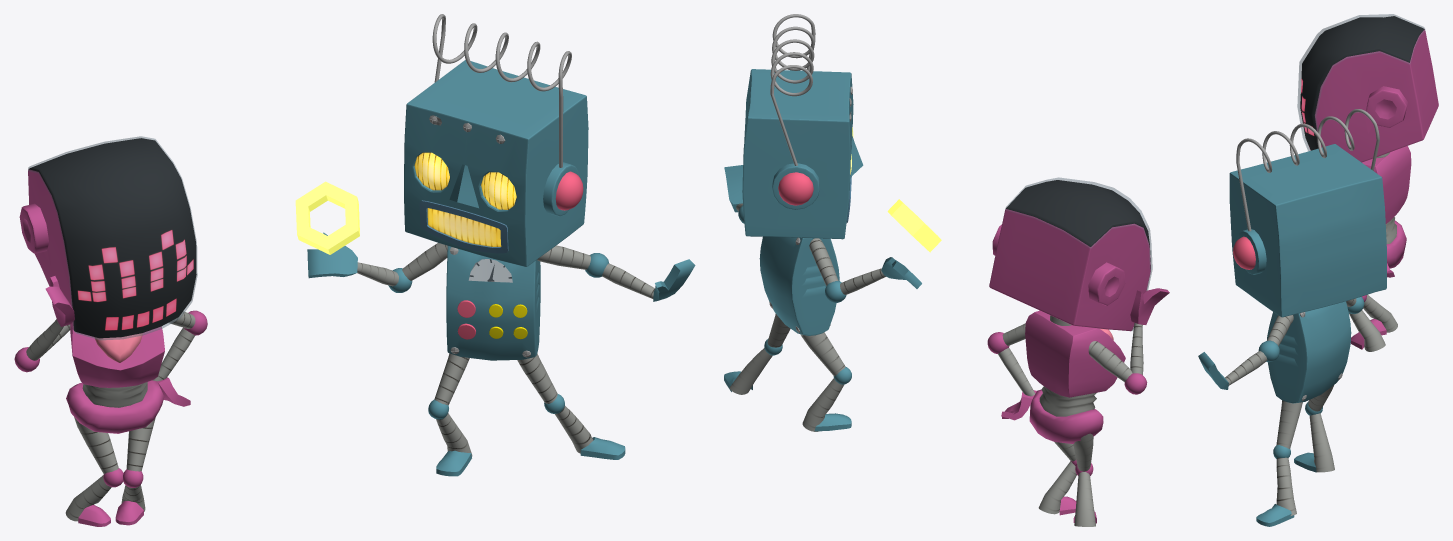
File: robot.glb
3 views of the same model, side by side, from view 1: azimuth 30°, elevation 25°; view 2: azimuth 150°, elevation 25°; view 3: azimuth 270°, elevation 25° (orthographic). The views are drawn at different scales.
Visible parts, largest first — view 1: Object_17, Object_14, Object_3, Object_21, Object_11, Object_15, Object_12, Object_10, Object_13, Object_8, Object_18, Object_19 (+4 smaller); view 2: Object_17, Object_21, Object_14, Object_3, Object_11, Object_10, Object_8, Object_12, Object_4, Object_13, Object_19, Object_20 (+1 smaller); view 3: Object_17, Object_21, Object_14, Object_3, Object_10, Object_8, Object_11, Object_16, Object_19, Object_12.
Part boxes in pixels (x1,y1,x2,y2): Object_17: [307, 60, 695, 476]; Object_14: [28, 136, 512, 340]; Object_3: [29, 138, 196, 338]; Object_21: [19, 169, 190, 526]; Object_11: [40, 243, 590, 473]; Object_15: [414, 152, 516, 246]; Object_12: [26, 262, 654, 381]; Object_10: [65, 406, 593, 521]; Object_13: [295, 181, 359, 254]; Object_8: [432, 14, 571, 167]; Object_18: [419, 200, 508, 253]; Object_19: [457, 171, 583, 339]; Object_17: [724, 69, 921, 431]; Object_21: [989, 209, 1169, 523]; Object_14: [1005, 177, 1152, 331]; Object_3: [1006, 180, 1150, 268]; Object_11: [767, 238, 1132, 471]; Object_10: [729, 348, 1095, 526]; Object_8: [770, 14, 815, 165]; Object_12: [736, 203, 1143, 396]; Object_4: [1039, 386, 1096, 416]; Object_13: [887, 199, 941, 252]; Object_19: [778, 172, 813, 205]; Object_20: [987, 332, 1147, 475]; Object_17: [1198, 144, 1386, 526]; Object_21: [1315, 29, 1438, 349]; Object_14: [1297, 14, 1425, 151]; Object_3: [1300, 16, 1424, 150]; Object_10: [1276, 294, 1397, 515]; Object_8: [1236, 109, 1379, 231]; Object_11: [1267, 152, 1389, 448]; Object_16: [1258, 296, 1364, 458]; Object_19: [1233, 236, 1255, 269]; Object_12: [1225, 351, 1267, 385].
Size of what is drawn, in the model's own units: 904 by 639 by 384.
17 materials, 6 textured.
